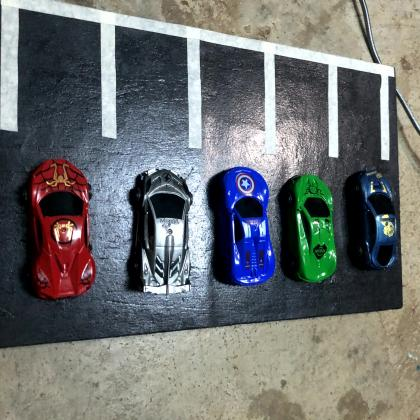Car: (29, 156, 94, 302), (134, 169, 192, 294), (220, 163, 274, 286), (289, 173, 338, 283), (357, 170, 399, 270)
